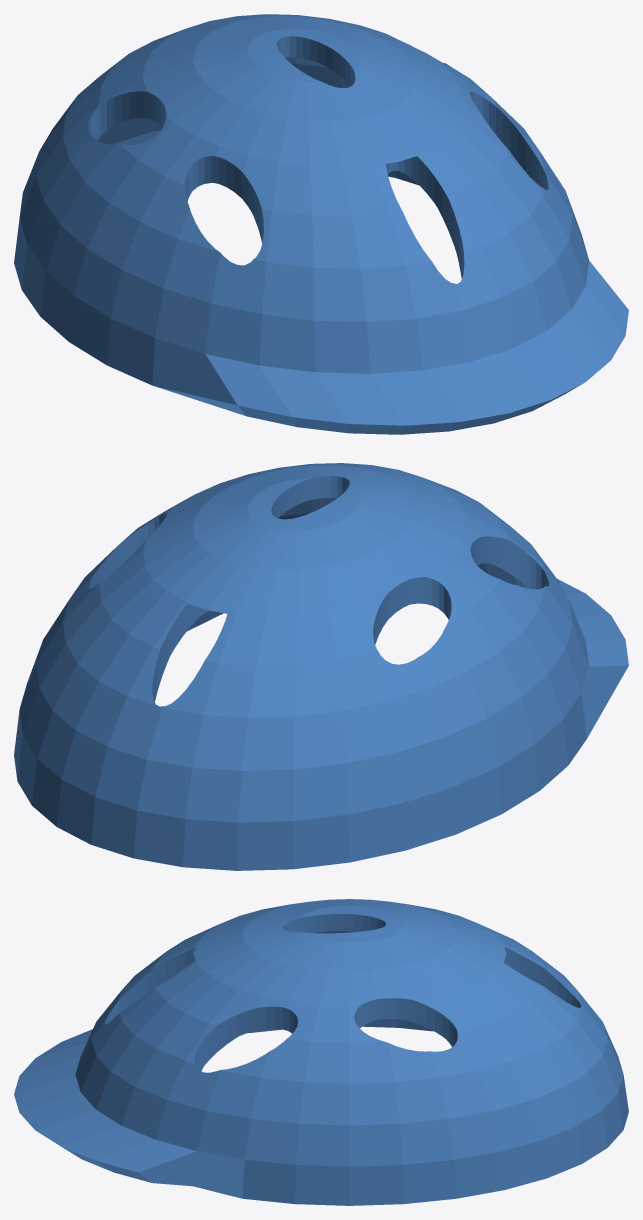
The model's file is Capacete.fbx.
3 views of the same model, one above another, from view 1: azimuth 30°, elevation 25°; view 2: azimuth 150°, elevation 25°; view 3: azimuth 270°, elevation 25° (orthographic). The views are drawn at different scales.
Parts seen in each view (by area): view 1: Sphere.002; view 2: Sphere.002; view 3: Sphere.002.
Boxes of the visible parts, bbox=[...] form: Sphere.002: bbox=[14, 14, 628, 434]; Sphere.002: bbox=[14, 463, 628, 870]; Sphere.002: bbox=[14, 899, 628, 1205].
Bounding box in the file's own units: 239 × 113 × 331.
